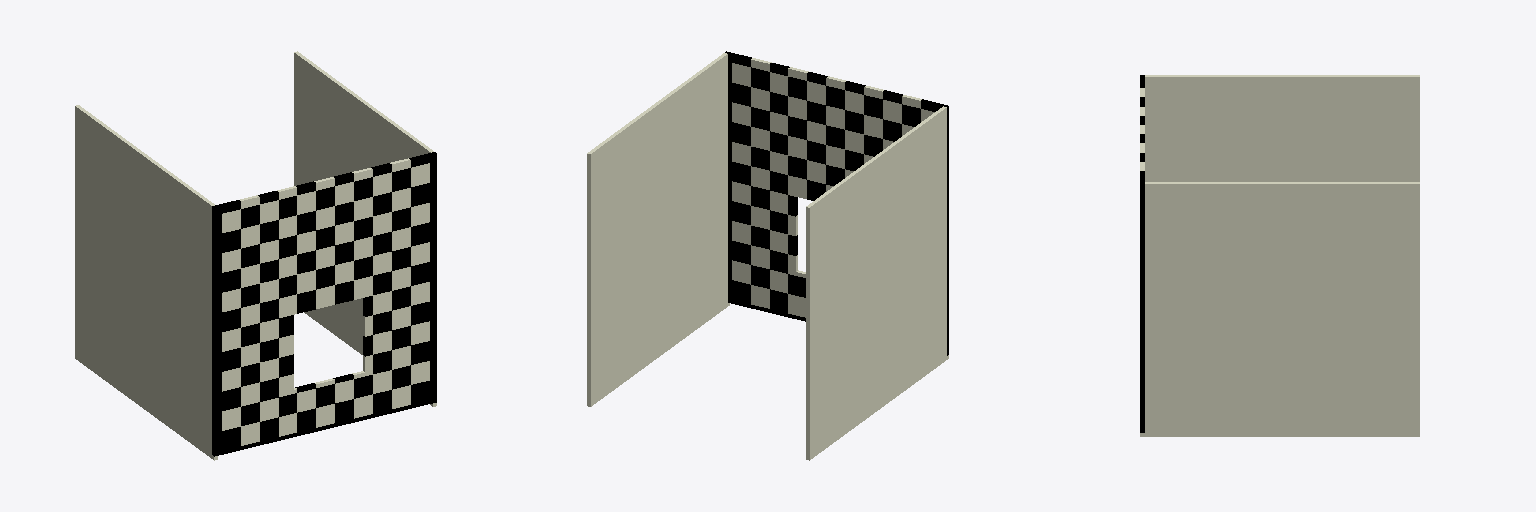
3 views of the same model, side by side, from view 1: azimuth 30°, elevation 25°; view 2: azimuth 150°, elevation 25°; view 3: azimuth 270°, elevation 25° (orthographic).
Parts seen in each view (by area): view 1: Walls; view 2: Walls; view 3: Walls.
Part boxes in pixels (bbox=[...]): Walls: bbox=[75, 51, 436, 460]; Walls: bbox=[587, 51, 948, 460]; Walls: bbox=[1140, 75, 1419, 436].
Size of the model in its own units: 5.9 by 6.4 by 6.4.
Materials: 1 (1 with a texture image).